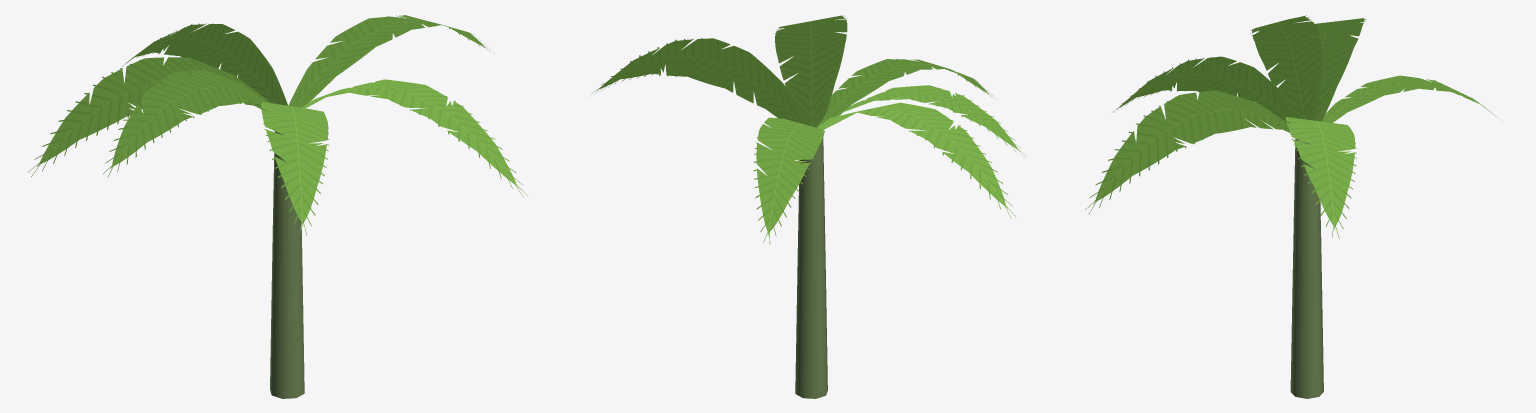
The model's file is banana_plant_1.glb.
3 renders of one model, left to right at view 1: azimuth 30°, elevation 25°; view 2: azimuth 150°, elevation 25°; view 3: azimuth 270°, elevation 25°, orthographic. The views are drawn at different scales.
Parts seen in each view (by area): view 1: banana_plant_1; view 2: banana_plant_1; view 3: banana_plant_1.
Part boxes in pixels (left/top/right/bottom): banana_plant_1: left=28, top=15, right=527, bottom=398; banana_plant_1: left=590, top=15, right=1027, bottom=398; banana_plant_1: left=1085, top=15, right=1502, bottom=398.
Bounding box in the file's own units: 4.2 × 2.94 × 3.81.
Materials: 2 (1 with a texture image).
